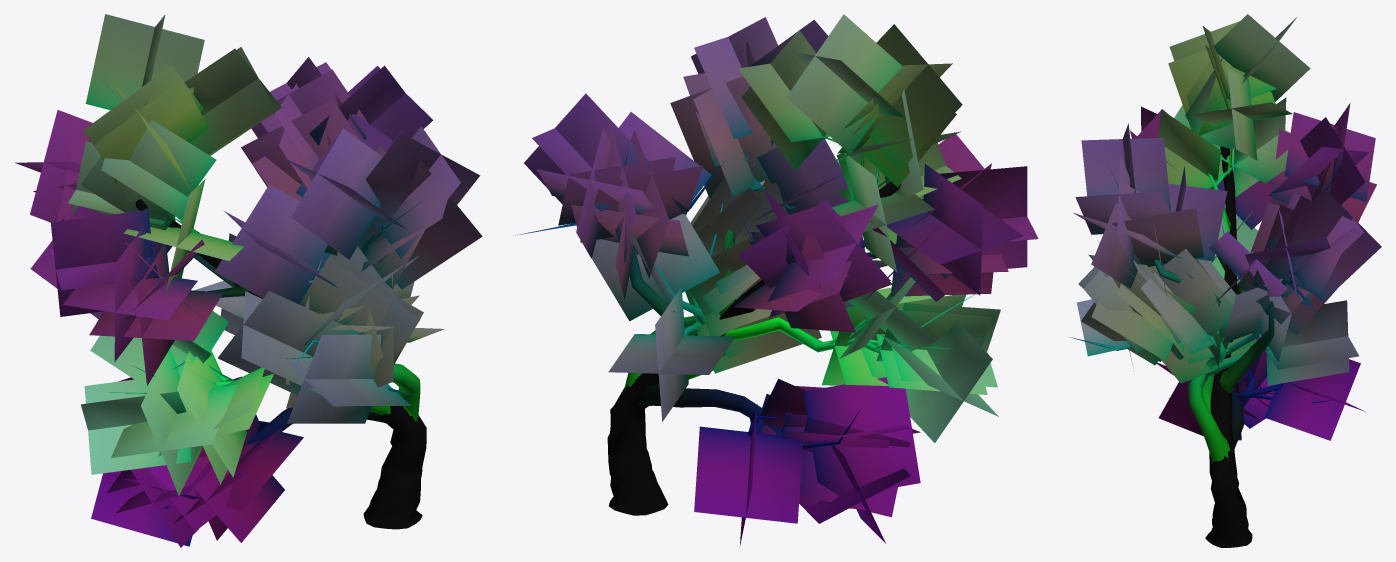
Rendered from URP_P5_Tree_13_LOD_1.fbx.
3 views of the same model, side by side, from view 1: azimuth 30°, elevation 25°; view 2: azimuth 150°, elevation 25°; view 3: azimuth 270°, elevation 25° (orthographic). The views are drawn at different scales.
Parts seen in each view (by area): view 1: Tree_13_LOD_1; view 2: Tree_13_LOD_1; view 3: Tree_13_LOD_1.
Part boxes in pixels (x1,y1,x2,y2): Tree_13_LOD_1: [15, 14, 482, 547]; Tree_13_LOD_1: [513, 14, 1038, 547]; Tree_13_LOD_1: [1069, 14, 1381, 547].
Size of the model in its own units: 401 by 479 by 311.
